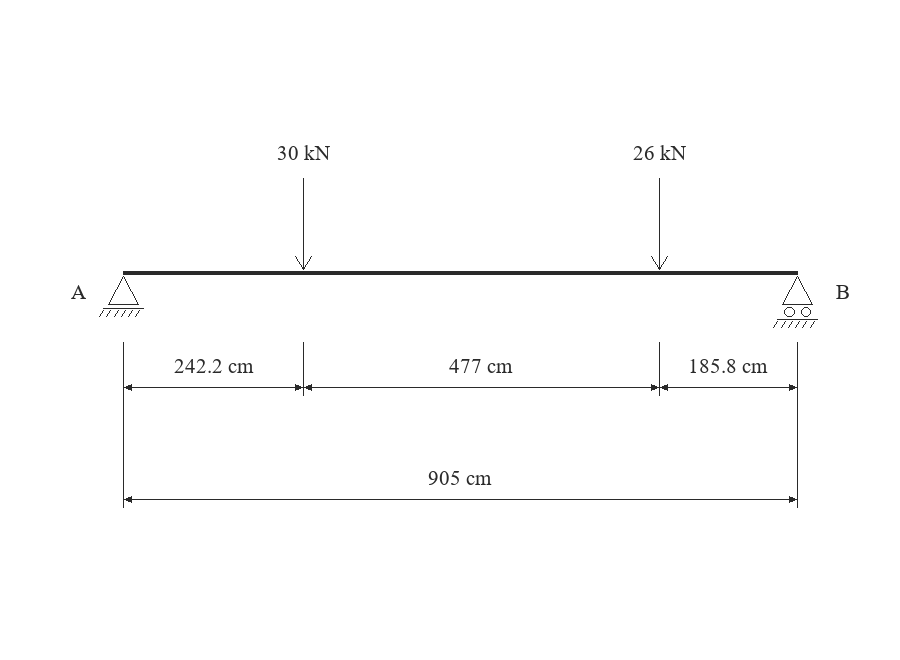pin_support: (99, 276, 144, 317)
point_load: (295, 178, 312, 270), (651, 178, 668, 270)
roller_support: (773, 276, 818, 328)
